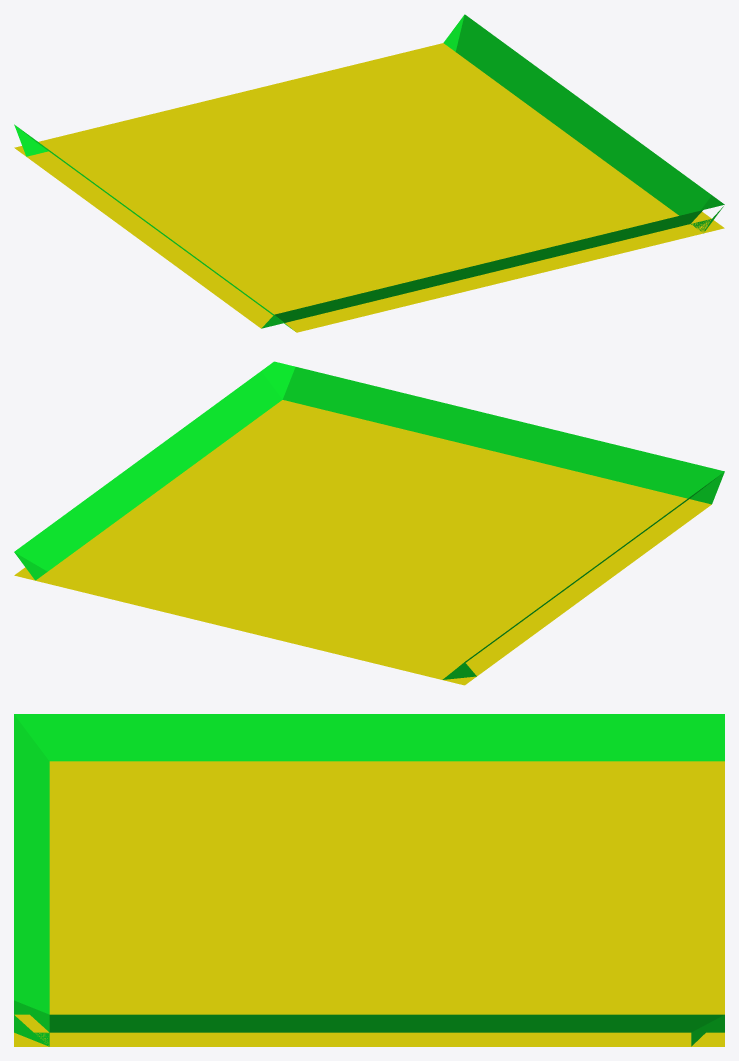
File: ExteriorMap2.fbx
The picture shows the model from 3 angles, top to bottom: view 1: azimuth 30°, elevation 25°; view 2: azimuth 150°, elevation 25°; view 3: azimuth 270°, elevation 25°; orthographic projection. The views are drawn at different scales.
Visible parts, largest first — view 1: Camino_T_2, Camino_L_2, Camino_X_1; view 2: Camino_T_2, Camino_L_2, Camino_X_1; view 3: Camino_T_2, Camino_L_2, Camino_X_1.
Part boxes in pixels (x1,y1,x2,y2): Camino_T_2: (18, 43, 723, 332); Camino_L_2: (14, 14, 724, 322); Camino_X_1: (14, 15, 724, 329); Camino_T_2: (14, 400, 720, 679); Camino_L_2: (14, 361, 724, 685); Camino_X_1: (14, 472, 724, 679); Camino_T_2: (14, 714, 724, 1046); Camino_L_2: (14, 714, 724, 1032); Camino_X_1: (14, 1014, 724, 1046).
Bounding box in the file's own units: 200 × 10 × 200.
